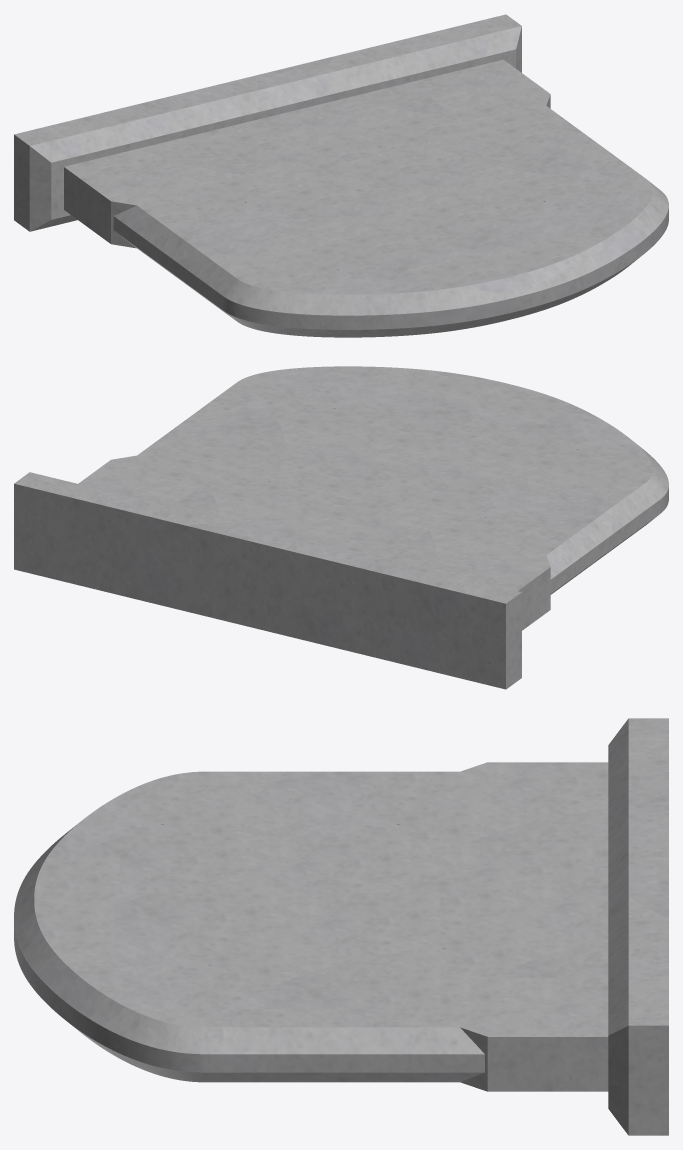
3 views of the same model, one above another, from view 1: azimuth 30°, elevation 25°; view 2: azimuth 150°, elevation 25°; view 3: azimuth 270°, elevation 25° (orthographic). The views are drawn at different scales.
Visible parts, largest first — view 1: PA-180-F_LOD0; view 2: PA-180-F_LOD0; view 3: PA-180-F_LOD0.
Part boxes in pixels (x1,y1,x2,y2): PA-180-F_LOD0: [14, 14, 668, 337]; PA-180-F_LOD0: [14, 366, 668, 689]; PA-180-F_LOD0: [14, 718, 668, 1135].
Size of what is drawn, in the model's own units: 91.44 by 15.24 by 82.32.
Materials: 1 (1 with a texture image).
